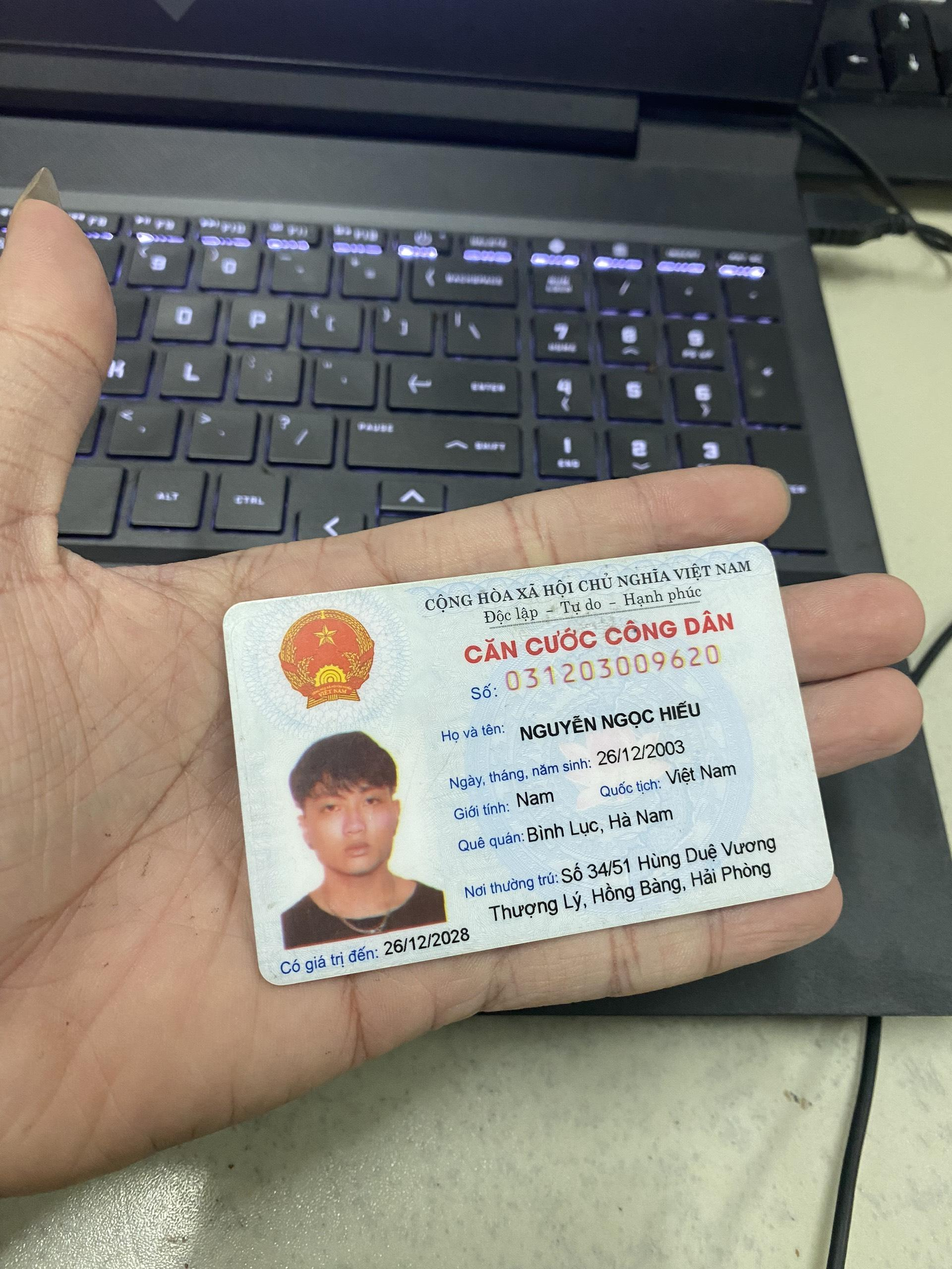bottom_left: (260, 955, 293, 1001)
bottom_right: (814, 860, 846, 906)
image_person: (260, 722, 450, 934)
top_left: (210, 595, 252, 633)
top_right: (747, 532, 783, 569)
